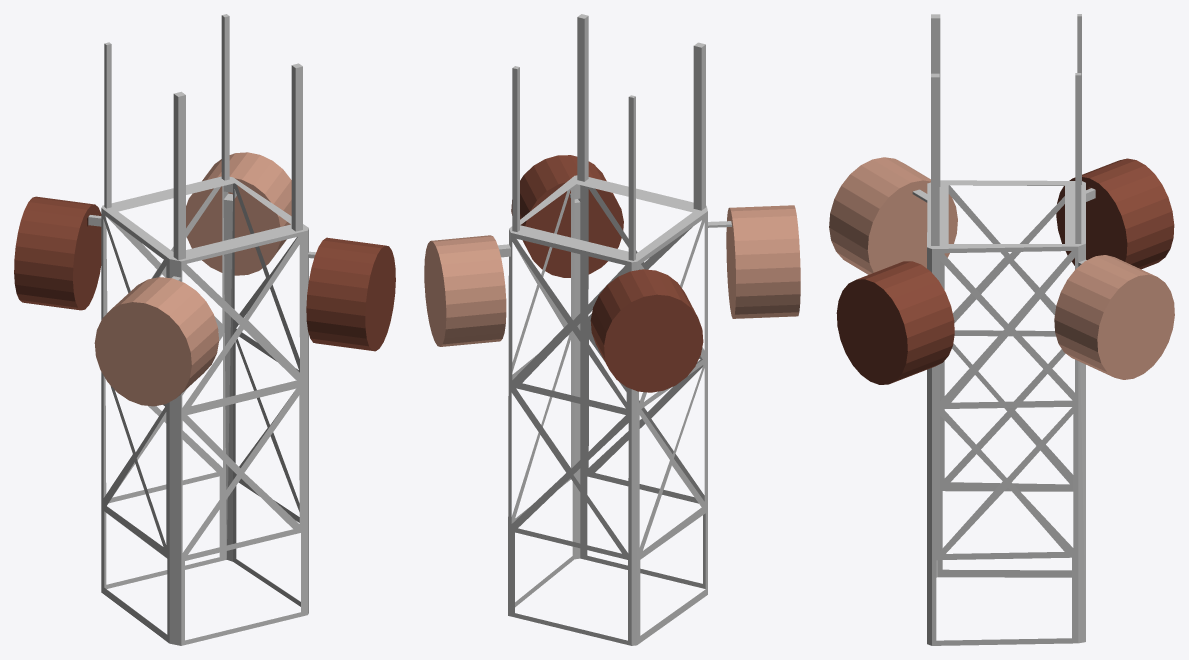
Rendered from antena.DAE.
3 renders of one model, left to right at view 1: azimuth 30°, elevation 25°; view 2: azimuth 150°, elevation 25°; view 3: azimuth 270°, elevation 25°, orthographic. The views are drawn at different scales.
Visible parts, largest first — view 1: antena; view 2: antena; view 3: antena.
Part boxes in pixels (x1,y1,x2,y2): antena: [14, 14, 395, 645]; antena: [424, 14, 800, 645]; antena: [829, 14, 1174, 645].
Size of the model in its own units: 5.94 by 10.53 by 5.84.
